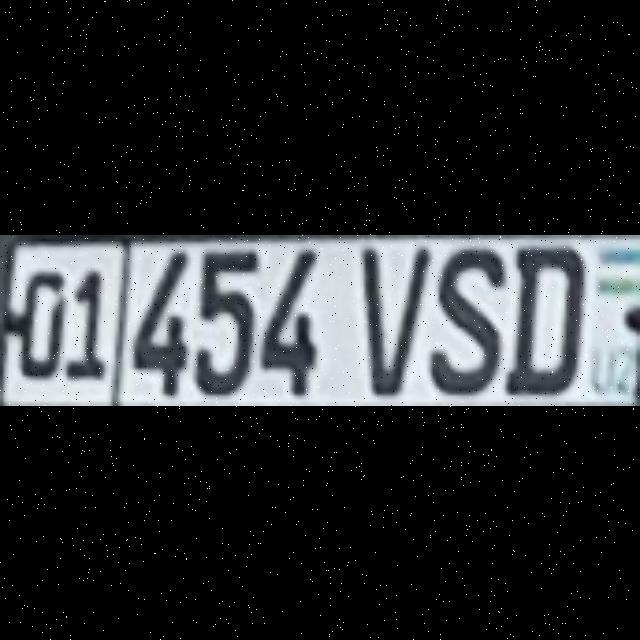0: (15, 267, 63, 375)
1: (64, 267, 100, 375)
4: (126, 246, 186, 394), (257, 246, 313, 394)
5: (190, 246, 250, 390)
D: (502, 242, 580, 394)
S: (424, 246, 498, 394)
V: (358, 246, 428, 390)
